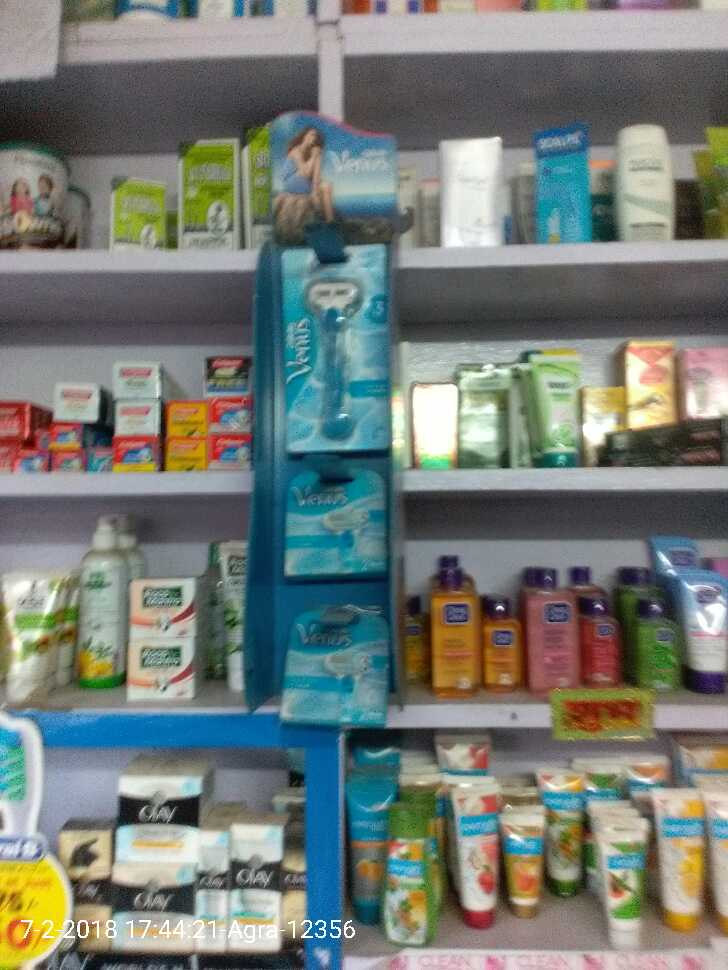beauty: (280, 237, 392, 449), (289, 610, 385, 729), (284, 478, 391, 579), (120, 760, 199, 864), (234, 824, 280, 951), (192, 834, 228, 959)
